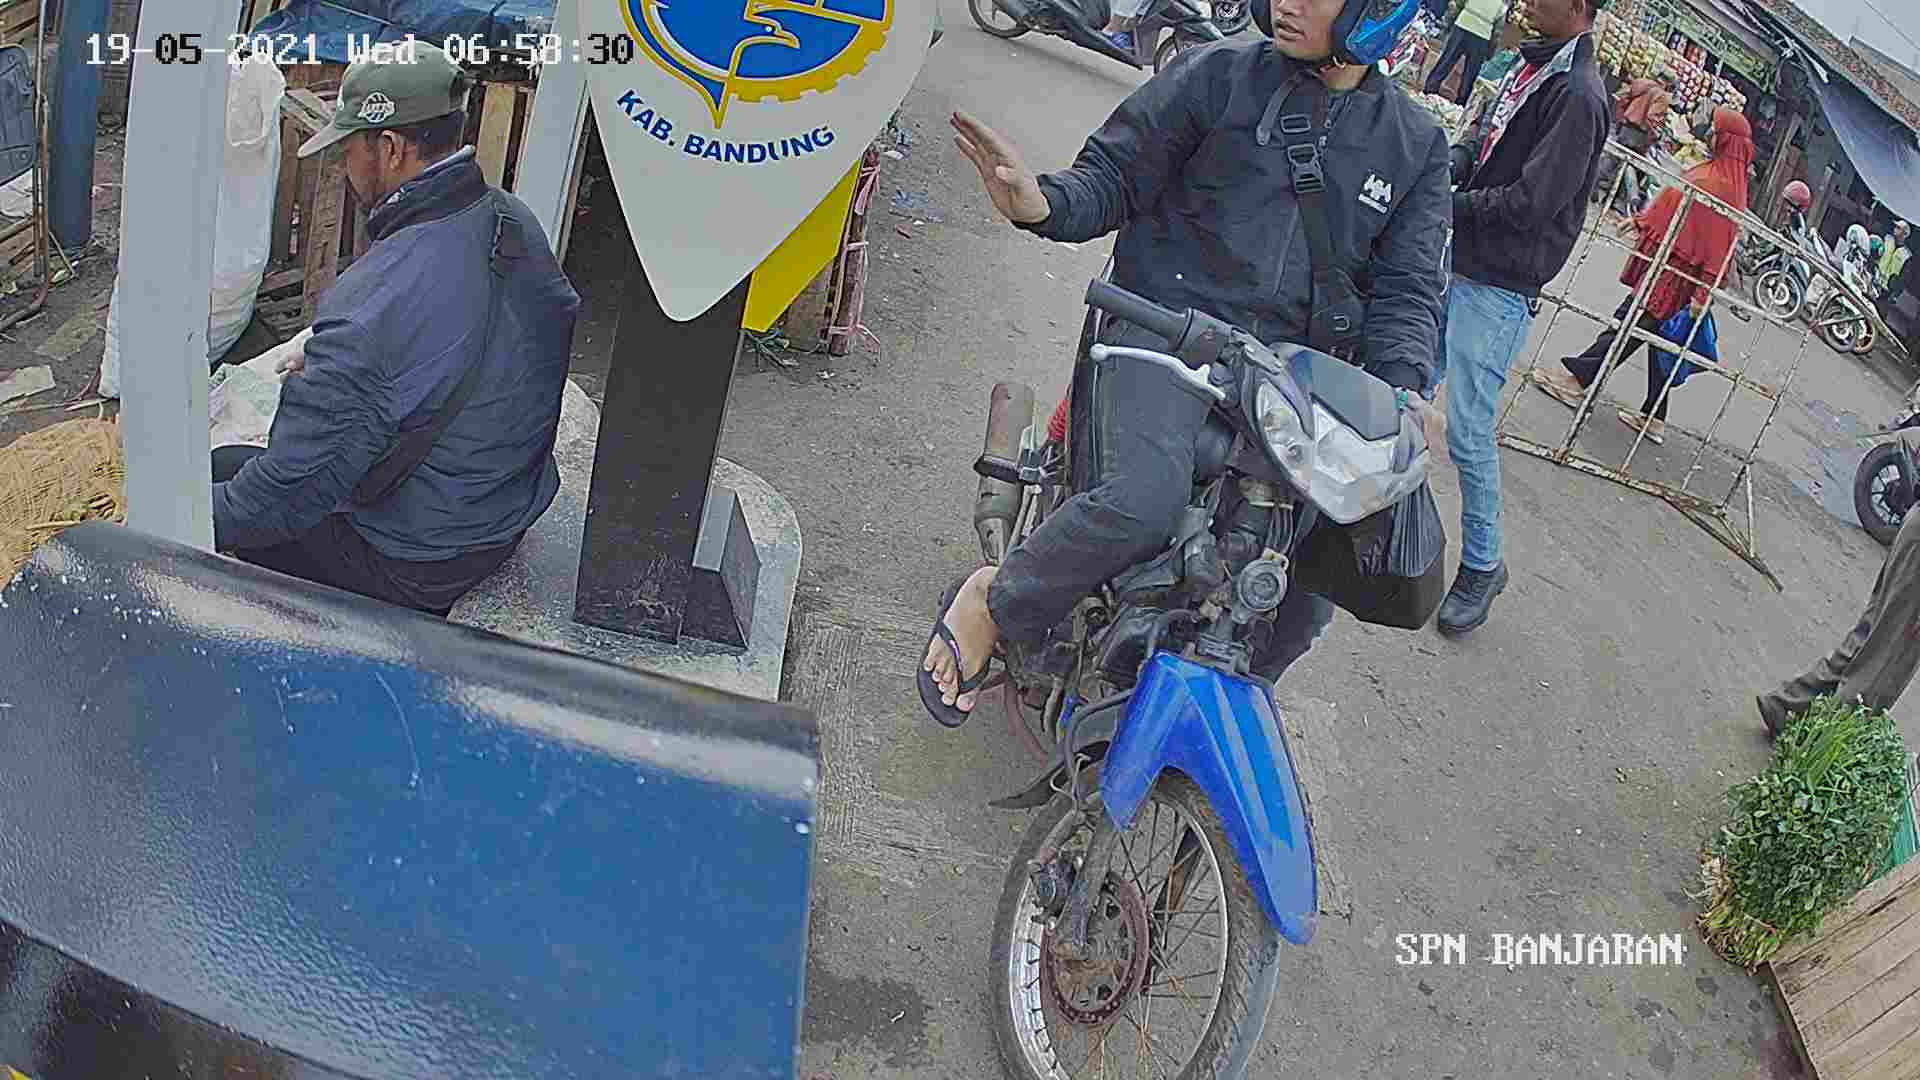motor: (969, 281, 1542, 1080)
